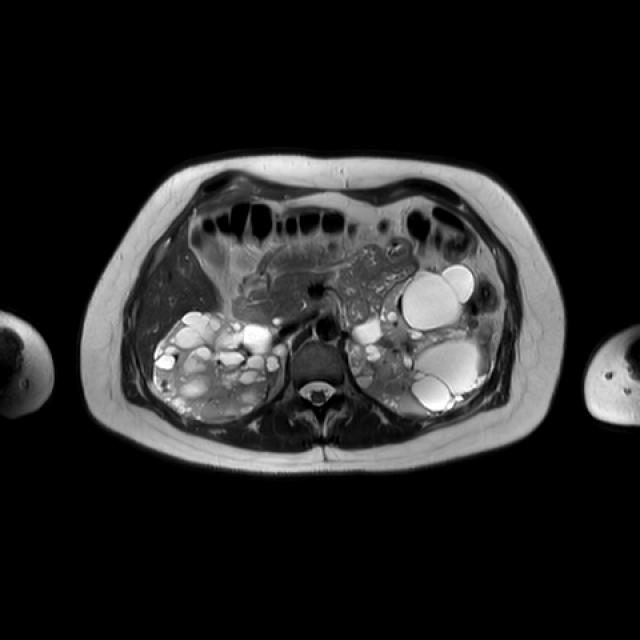sag: (154, 310, 286, 422)
sol: (349, 265, 493, 416)
